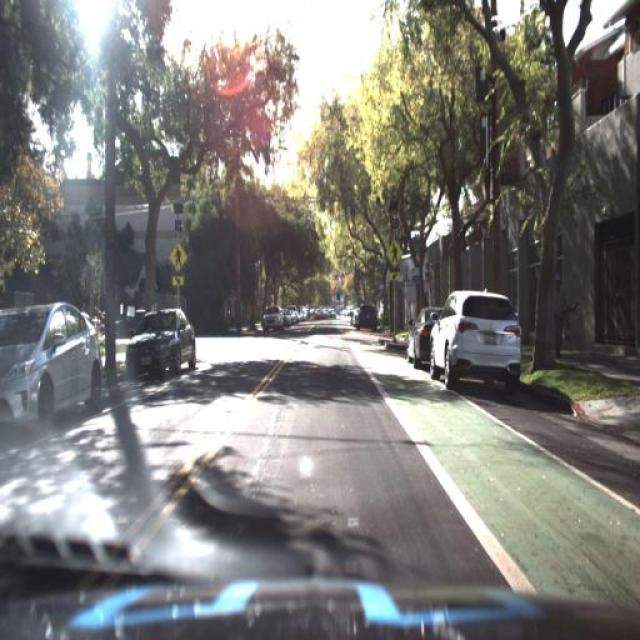car: (0, 293, 108, 418), (425, 283, 524, 387), (118, 303, 201, 383), (402, 302, 442, 371), (256, 302, 286, 331), (352, 302, 378, 333)
trafficLight: (550, 262, 581, 367)
